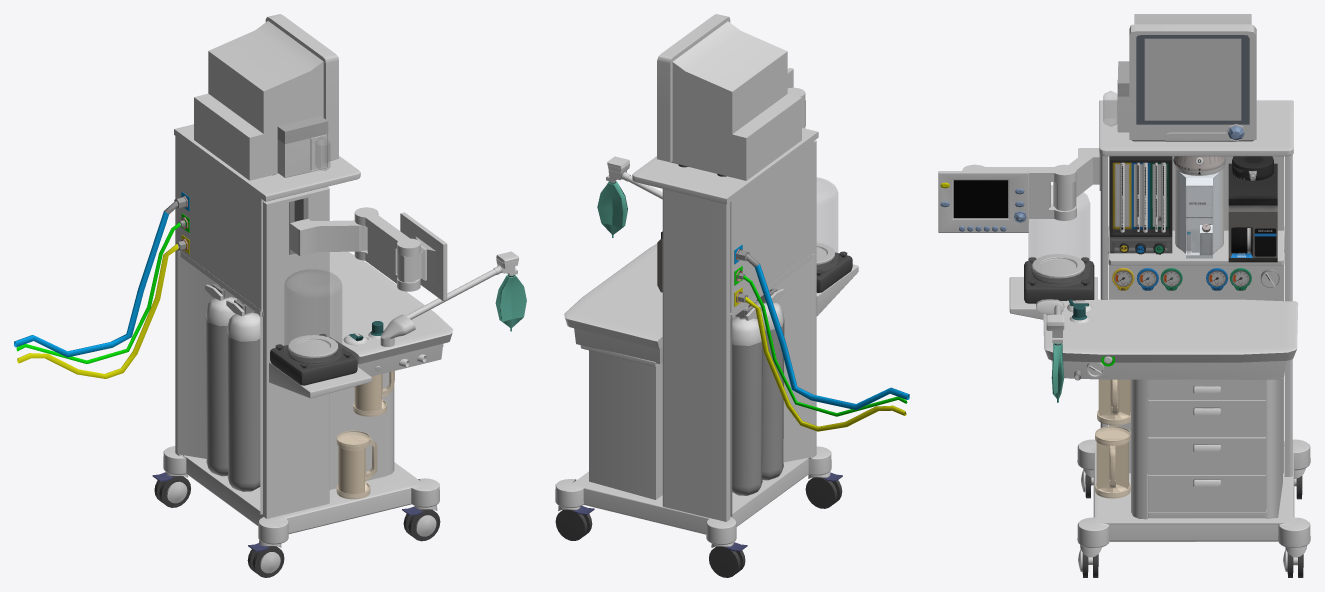
File: MachineOptimized V1.fbx
3 views of the same model, side by side, from view 1: azimuth 30°, elevation 25°; view 2: azimuth 150°, elevation 25°; view 3: azimuth 270°, elevation 25° (orthographic). The views are drawn at different scales.
Visible parts, largest first — view 1: pCube2, pCube50, revolvedSurface1 (×2), pCube36, pCube56, Base, pCube49, pCylinder1, pCube1, pCube9, pCylinder91, pCube67 (+15 smaller); view 2: pCube19, pCube50, pCube8, pCube36, revolvedSurface1 (×2), pCube56, Base, pCube49, pCube9, pCylinder1, extrudedSurface2, extrudedSurface4 (+8 smaller); view 3: pCube56, pCube50, Base, pCube9, pCube73, pCube62, pCube12, pCube11, pCube13, pCylinder1, base, FlujometrosV2:AtrasFlujometros (+29 smaller).
Boxes of the visible parts, x1,y1,x2,y2 form: pCube2: (263,186,329,518); pCube50: (194,14,338,180); revolvedSurface1 (×2): (206,286,260,491); pCube36: (178,138,264,310); pCube56: (329,251,453,376); Base: (163,446,439,544); pCube49: (177,251,262,514); pCylinder1: (284,269,341,364); pCube1: (329,372,394,489); pCube9: (174,124,360,201); pCylinder91: (354,207,420,291); pCube67: (277,116,328,177); pCube19: (662,189,730,521); pCube50: (657,14,801,180); pCube8: (589,350,662,499); pCube36: (730,141,813,312); revolvedSurface1 (×2): (732,291,784,495); pCube56: (564,243,662,363); Base: (555,446,831,544); pCube49: (730,254,814,516); pCube9: (632,128,818,204); pCylinder1: (817,177,837,270); extrudedSurface2: (746,254,909,409); extrudedSurface4: (745,297,906,431); pCube56: (1043,299,1298,379); pCube50: (1129,14,1256,141); Base: (1077,439,1310,548); pCube9: (1099,100,1293,156); pCube73: (938,171,1028,232); pCube62: (1109,265,1283,473); pCube12: (1148,435,1266,474); pCube11: (1148,473,1266,512); pCube13: (1148,398,1266,437); pCylinder1: (1028,185,1089,285); base: (1178,172,1220,258); FlujometrosV2:AtrasFlujometros: (1112,162,1168,229).
Bounding box in the file's own units: 30.66 × 34.66 × 22.83.
